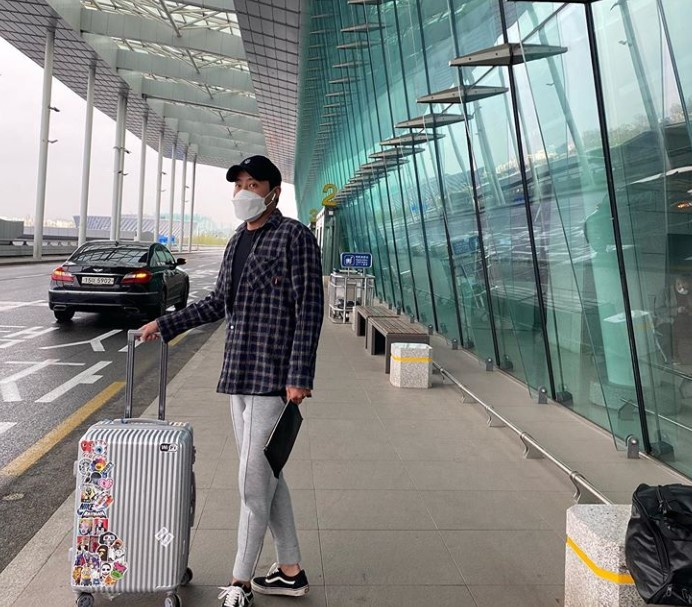face_with_mask: (228, 157, 281, 223)
